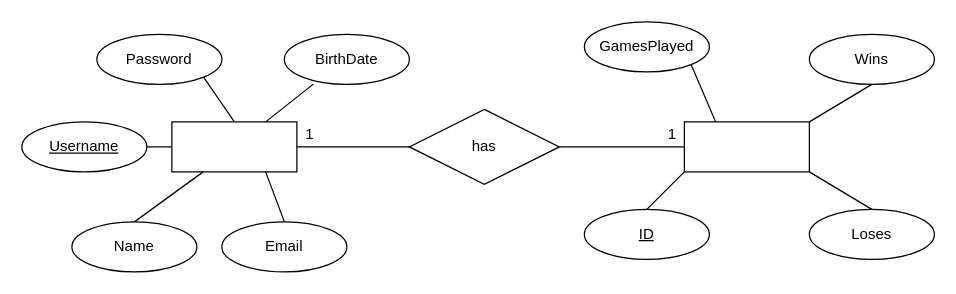
The diagram is 956 pixels wide and 294 high, and some of its shapes have lost their labels. The shapes that lost their labels are listed below. From the top down, each one's centre as x and y in pixels, then its label:
At (x=234, y=146): "User".
At (x=746, y=146): "Stats".
